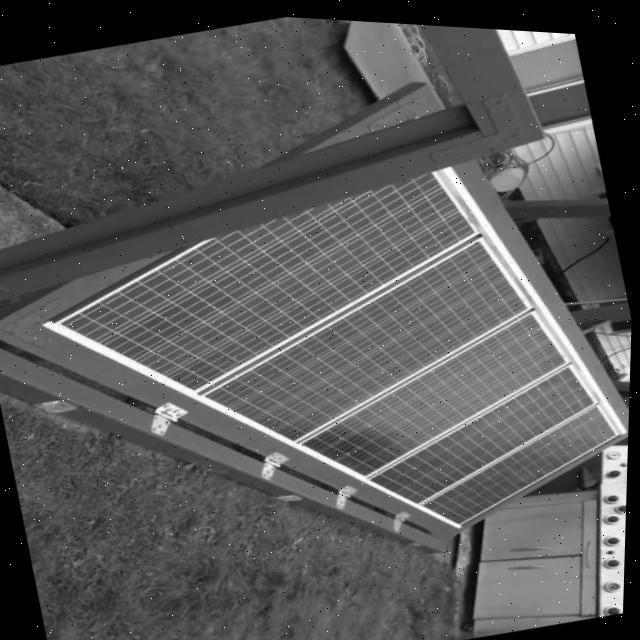Normal Solar Panel: (27, 114, 638, 609)
